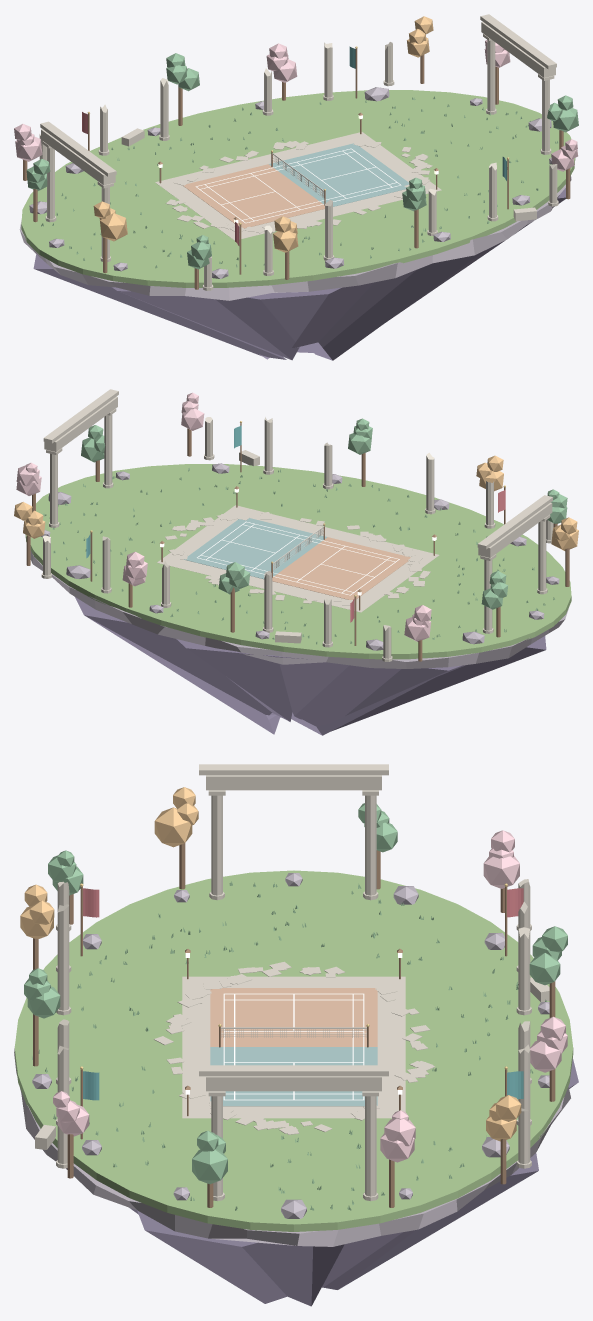
File: court.glb
3 views of the same model, one above another, from view 1: azimuth 30°, elevation 25°; view 2: azimuth 150°, elevation 25°; view 3: azimuth 270°, elevation 25° (orthographic). The views are drawn at different scales.
Visible parts, largest first — view 1: IslandTop, Underside, IslandRim, SideA, Plaza, SideB, Tiles, Lines, LintelTop.001, LintelTop, Tufts, Lintel.001 (+10 smaller); view 2: IslandTop, Underside, Plaza, IslandRim, SideA, SideB, Tiles, Lines, Tufts, LintelTop, LintelTop.001, Lintel (+8 smaller); view 3: IslandTop, Underside, Plaza, SideA, IslandRim, SideB, Tiles, Lintel, Lintel.001, LintelTop, LintelTop.001, Lines (+14 smaller).
Part boxes in pixels (x1,y1,x2,y2): IslandTop: [21, 90, 575, 287]; Underside: [33, 188, 566, 360]; IslandRim: [19, 176, 571, 300]; SideA: [182, 164, 324, 228]; Plaza: [155, 132, 441, 240]; SideB: [269, 143, 409, 206]; Tiles: [166, 141, 432, 233]; Lines: [195, 148, 401, 223]; LintelTop.001: [480, 14, 556, 69]; LintelTop: [40, 121, 116, 176]; Tufts: [41, 96, 558, 268]; Lintel.001: [481, 21, 555, 77]; IslandTop: [25, 464, 571, 659]; Underside: [75, 597, 546, 735]; Plaza: [157, 505, 439, 612]; IslandRim: [30, 550, 568, 668]; SideA: [272, 537, 410, 600]; SideB: [184, 518, 327, 579]; Tiles: [165, 512, 430, 605]; Lines: [197, 521, 399, 595]; Tufts: [43, 468, 554, 644]; LintelTop: [477, 495, 552, 549]; LintelTop.001: [43, 389, 118, 443]; Lintel: [478, 502, 552, 557]; IslandTop: [14, 870, 573, 1231]; Underside: [129, 1058, 578, 1306]; Plaza: [182, 976, 405, 1118]; SideA: [210, 988, 377, 1046]; IslandRim: [14, 1046, 570, 1246]; SideB: [210, 1047, 377, 1106]; Tiles: [153, 961, 435, 1134]; Lintel: [206, 775, 381, 790]; Lintel.001: [206, 1076, 381, 1091]; LintelTop: [199, 764, 388, 775]; LintelTop.001: [199, 1065, 388, 1076]; Lines: [223, 993, 364, 1100].
Bounding box in the file's own units: 60 × 28.97 × 40.47.
